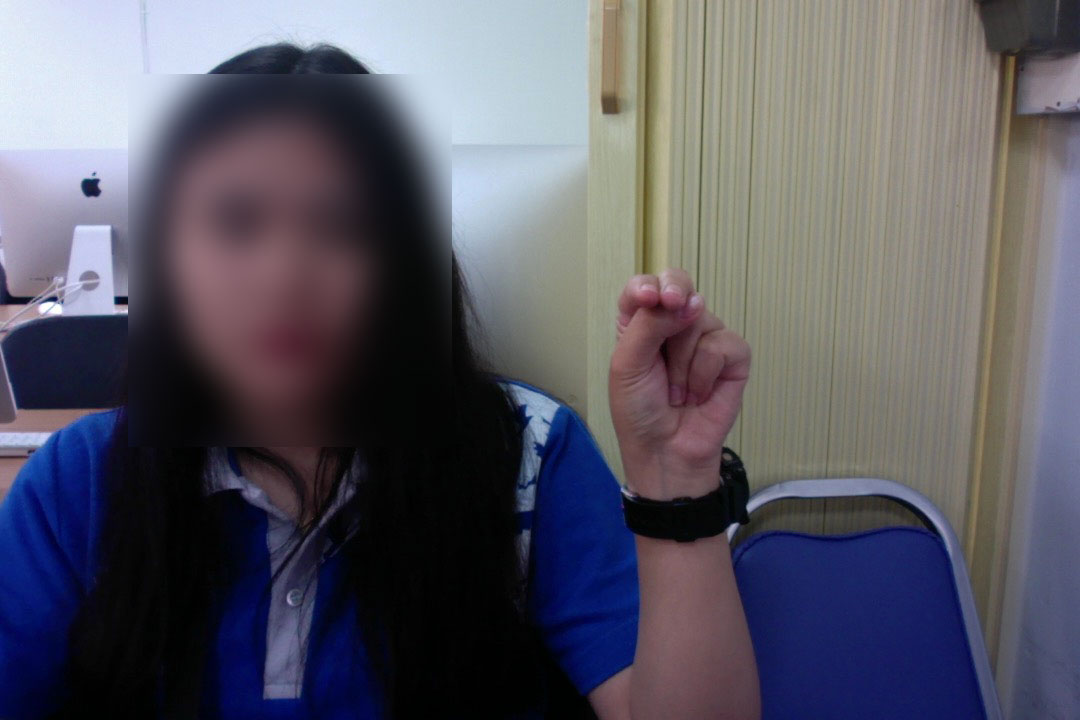nor: (600, 262, 751, 479)
